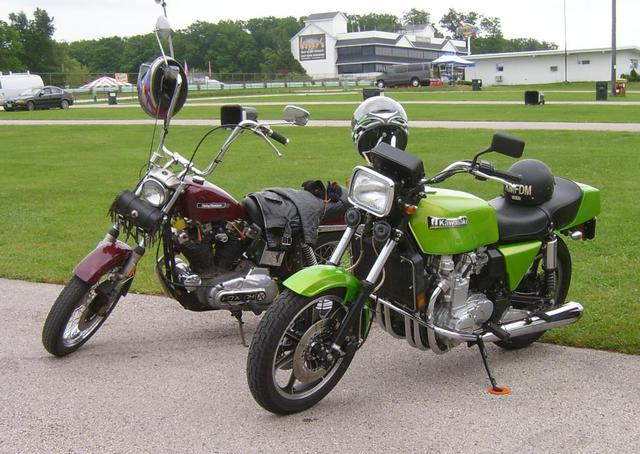helmet: (352, 99, 413, 148)
